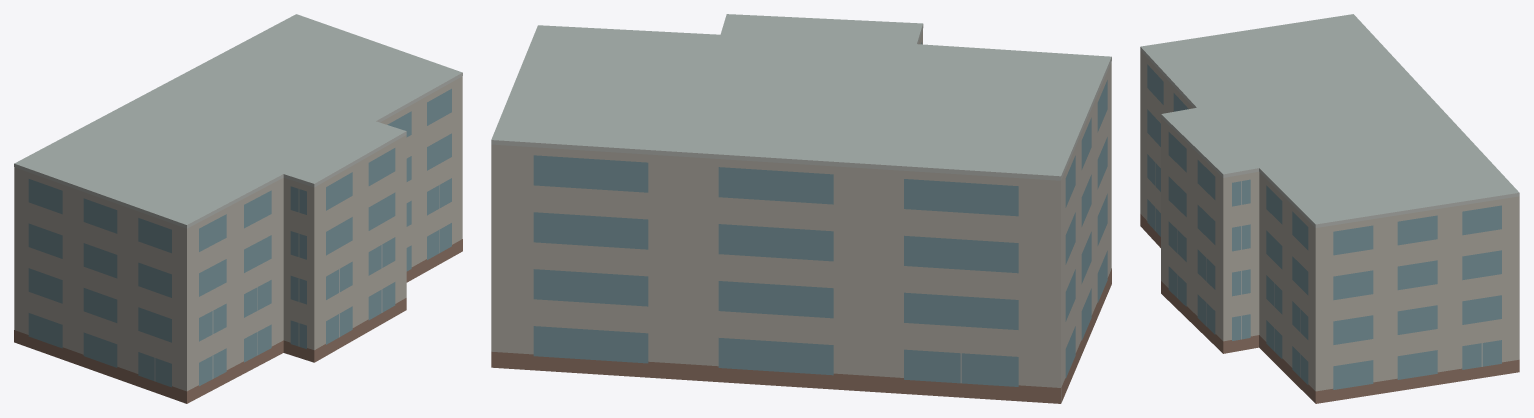
Rendered from survey-upis-32858152.glb.
The picture shows the model from 3 angles, left to right: view 1: azimuth 30°, elevation 25°; view 2: azimuth 150°, elevation 25°; view 3: azimuth 270°, elevation 25°; orthographic projection. The views are drawn at different scales.
Parts seen in each view (by area): view 1: survey-upis-32858152.tmp; view 2: survey-upis-32858152.tmp; view 3: survey-upis-32858152.tmp.
Boxes of the visible parts, x1=… form: survey-upis-32858152.tmp: x1=14, y1=14, x2=462, y2=403; survey-upis-32858152.tmp: x1=491, y1=14, x2=1111, y2=403; survey-upis-32858152.tmp: x1=1140, y1=14, x2=1519, y2=403.
Bounding box in the file's own units: 30.7 × 12.2 × 23.38.
